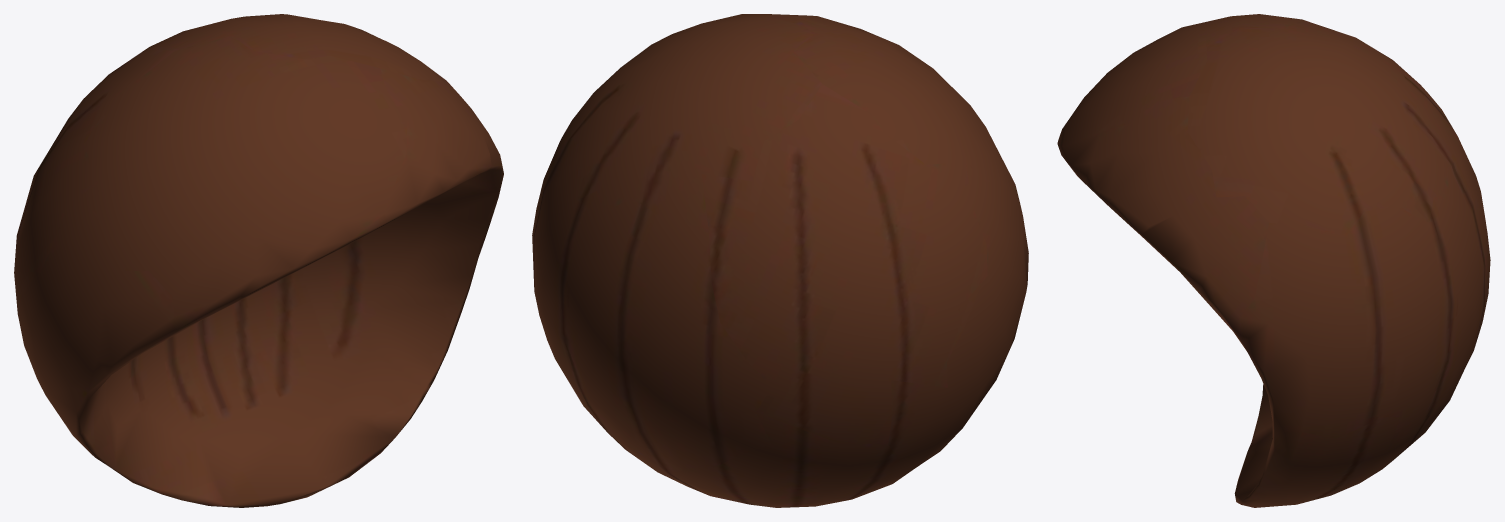
Rendered from avatar-hair-long.tucked.glb.
The picture shows the model from 3 angles, left to right: view 1: azimuth 30°, elevation 25°; view 2: azimuth 150°, elevation 25°; view 3: azimuth 270°, elevation 25°; orthographic projection. The views are drawn at different scales.
Parts seen in each view (by area): view 1: hair; view 2: hair; view 3: hair.
Boxes of the visible parts, <box> form: hair: <box>14,14,503,507</box>; hair: <box>532,14,1028,507</box>; hair: <box>1057,14,1490,507</box>.
Bounding box in the file's own units: 0.4184 × 0.4114 × 0.3635.
1 material, 1 textured.
